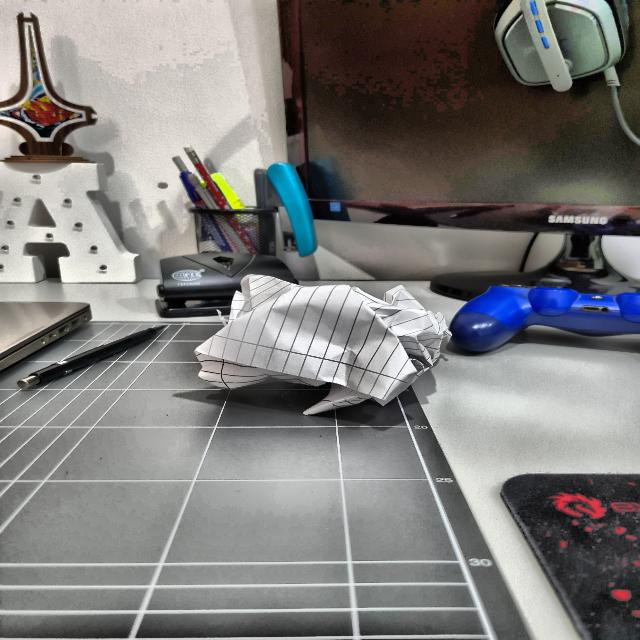Paper: (208, 274, 453, 416)
